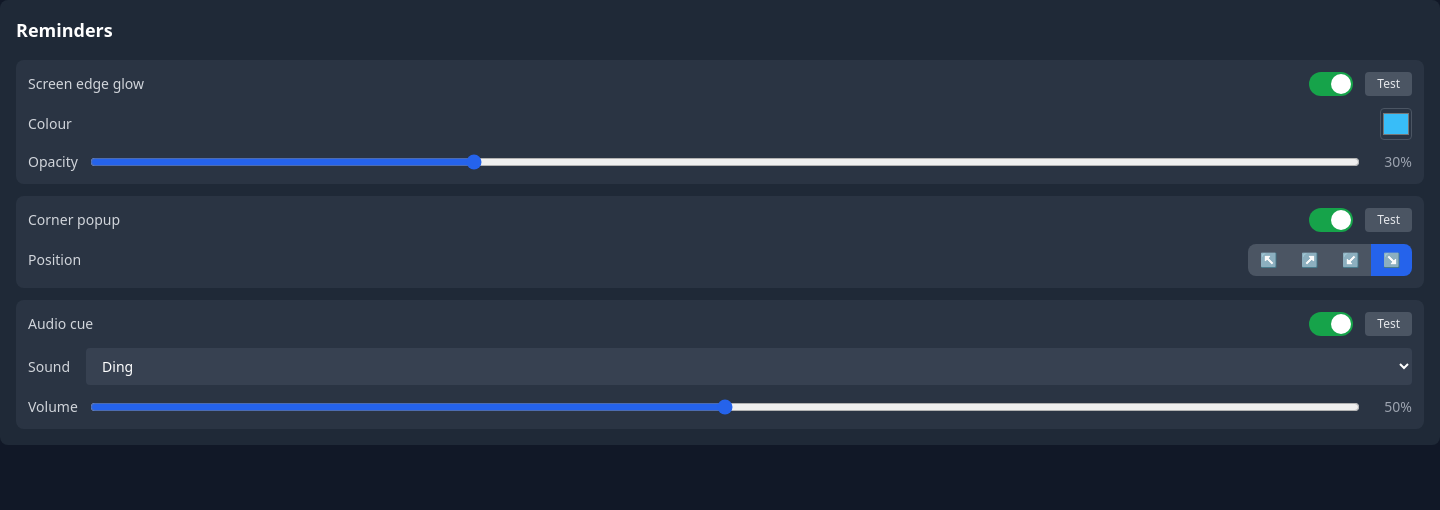
ReminderSettingsPanel › shows test error when testReminder rejects
Expected: the text "Screen edge glow" is shown, x1=28 y1=74 x2=144 y2=93
What coordinates should you click on to do the following:
click the button "Test" in the row of "Screen edge glow"
I would click on:
 (1389, 84)
Its box is x1=1365 y1=72 x2=1412 y2=96.
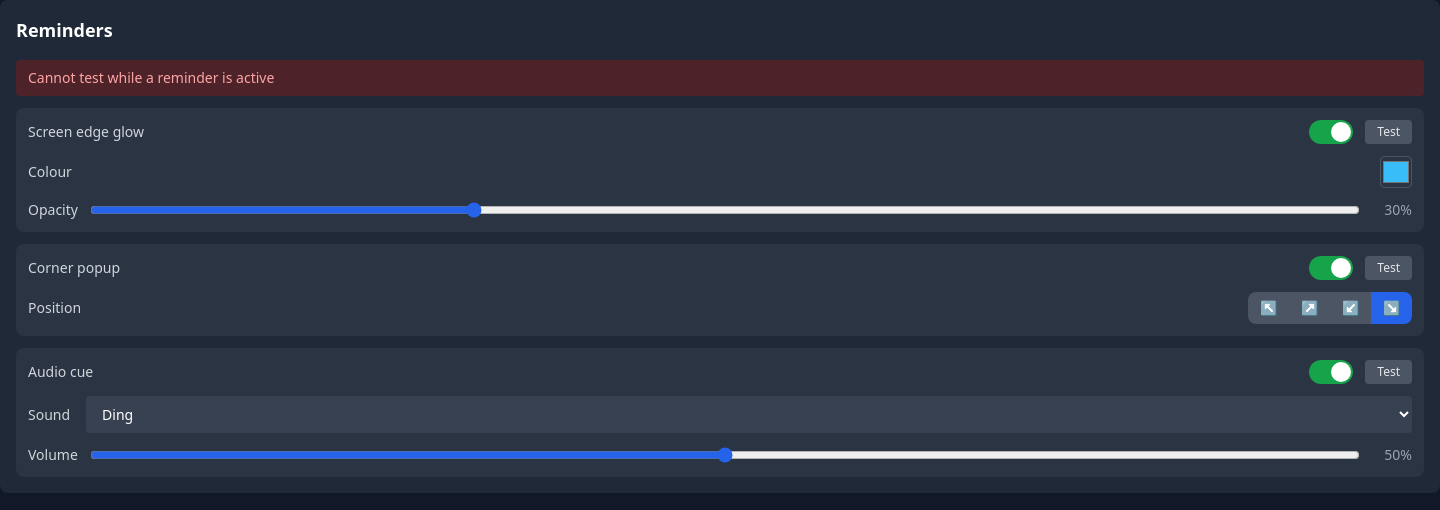
Expected: the text "Cannot test while a reminder is active" is shown, x1=16 y1=60 x2=1424 y2=96
